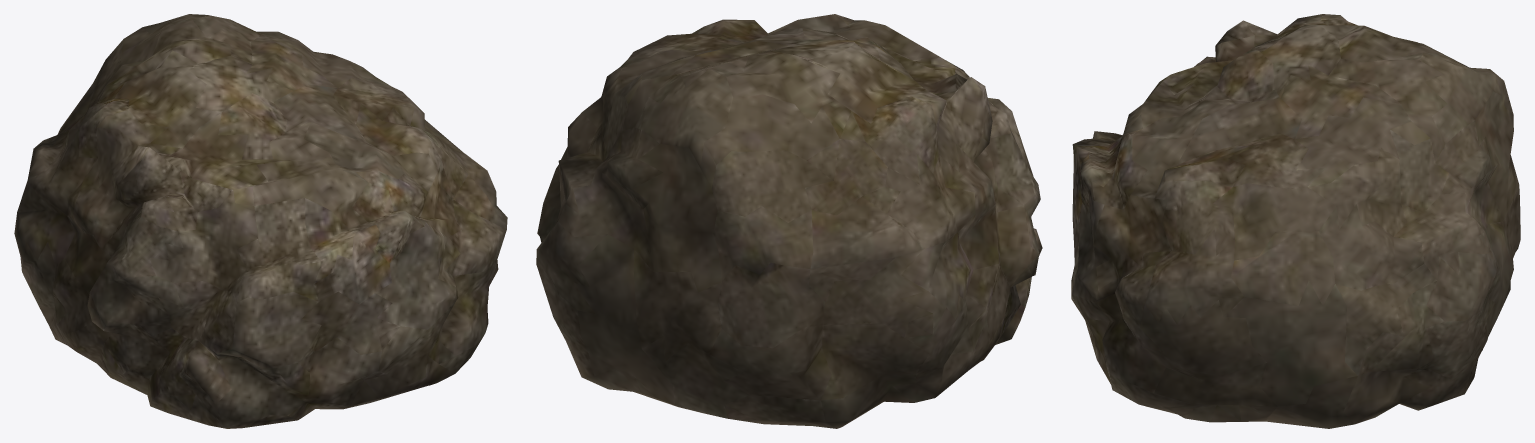
The model's file is x_rock_single_A.glb.
The picture shows the model from 3 angles, left to right: view 1: azimuth 30°, elevation 25°; view 2: azimuth 150°, elevation 25°; view 3: azimuth 270°, elevation 25°; orthographic projection. The views are drawn at different scales.
Visible parts, largest first — view 1: x_rock_single_A; view 2: x_rock_single_A; view 3: x_rock_single_A.
Part boxes in pixels (<box>): x_rock_single_A: <box>14,14,507,428</box>; x_rock_single_A: <box>536,14,1042,428</box>; x_rock_single_A: <box>1071,14,1520,428</box>.
Bounding box in the file's own units: 0.2982 × 0.2294 × 0.297.
Materials: 1 (1 with a texture image).
